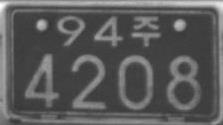0: (117, 53, 154, 111)
2: (71, 52, 107, 110)
4: (23, 52, 59, 108), (93, 15, 123, 47)
8: (165, 54, 202, 112)
9: (57, 14, 85, 47)
주: (130, 14, 160, 47)
